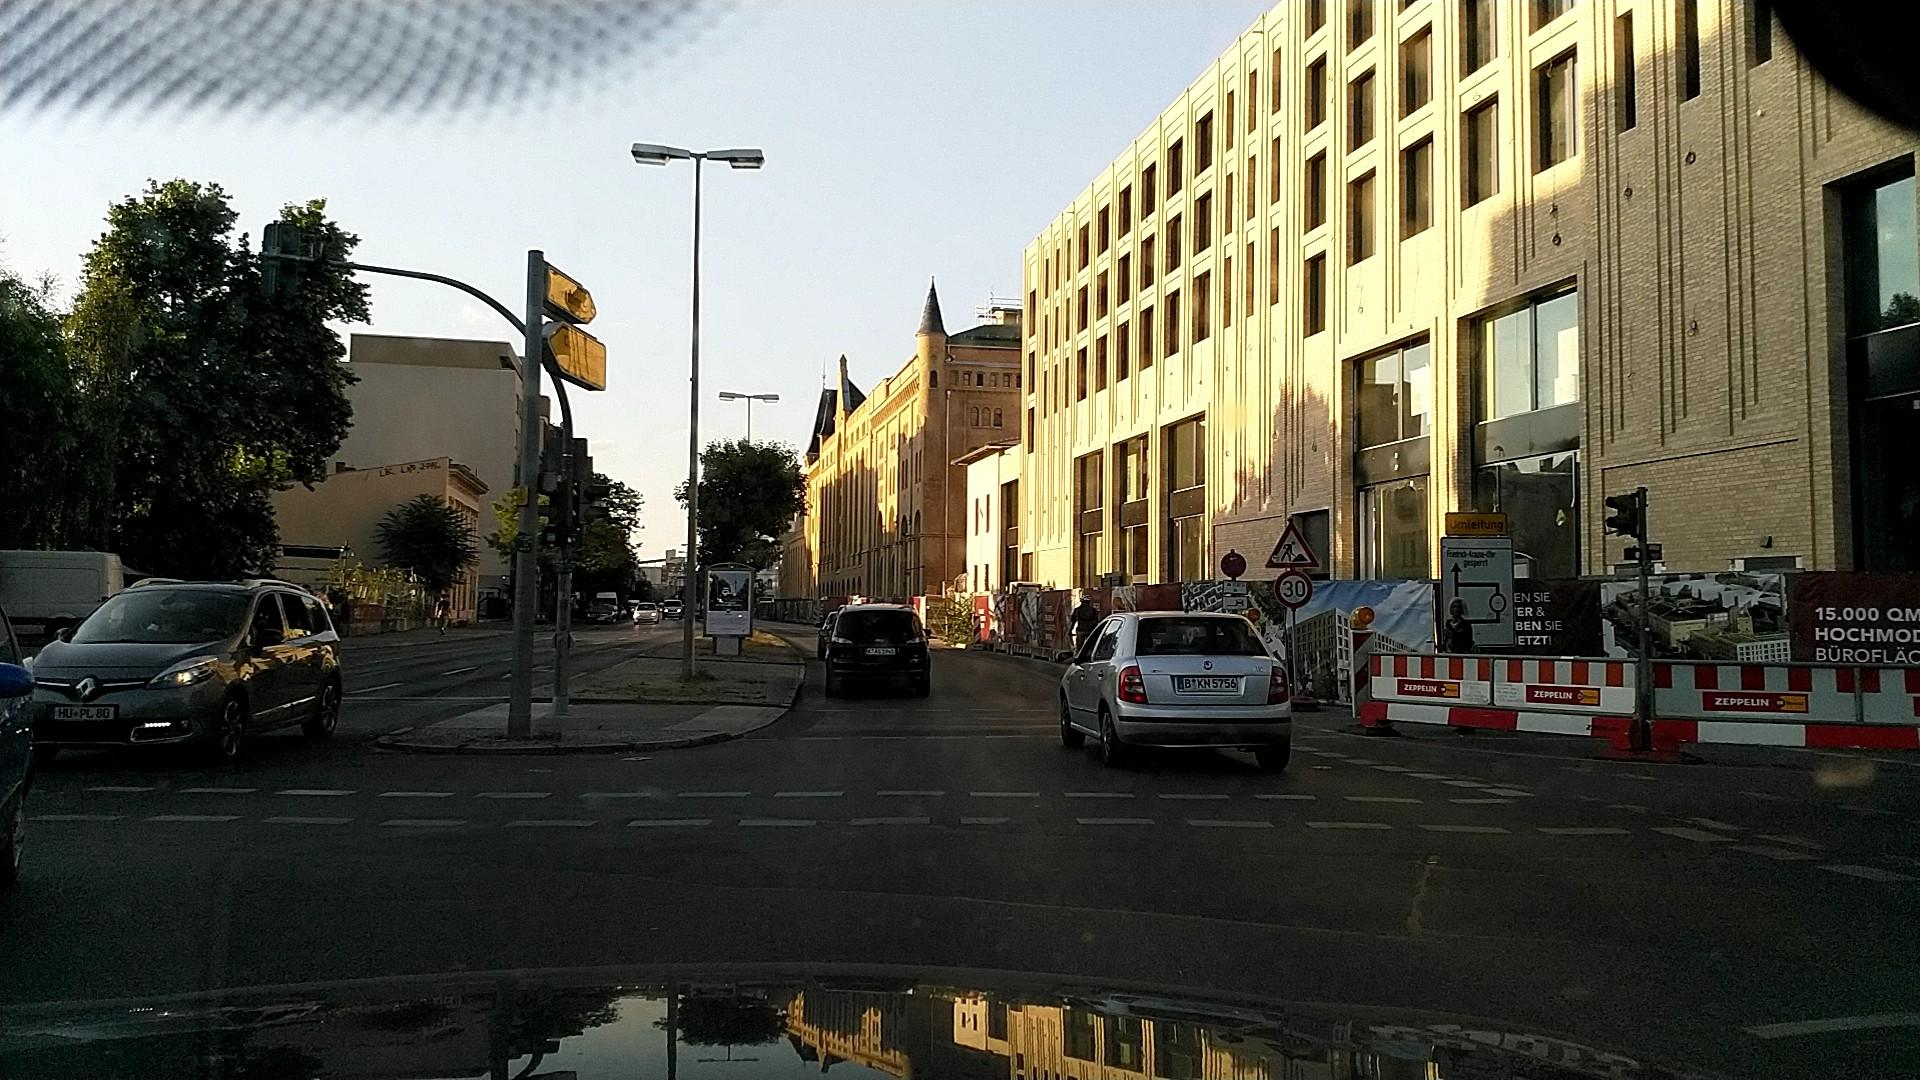Human face: (1450, 598, 1463, 620)
Vehicle registration plate: (47, 705, 115, 721), (1178, 676, 1238, 692), (862, 647, 897, 656)
